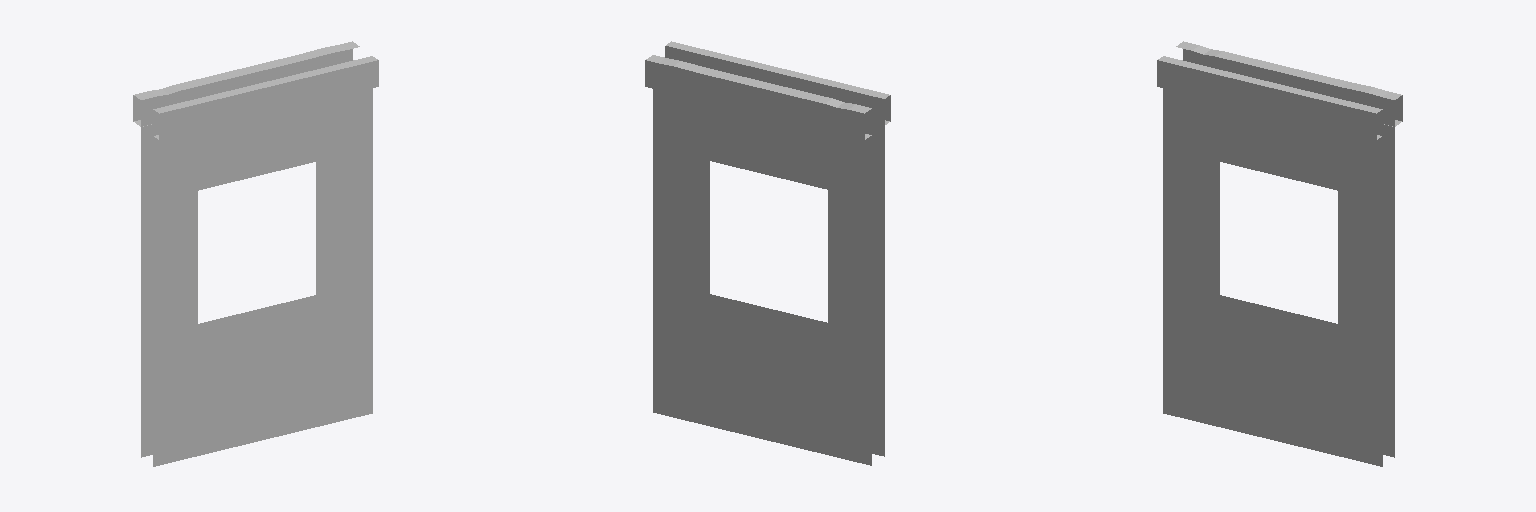
The model's file is Wall_UnevenBrick_Window_Wide_Flat.obj.
3 renders of one model, left to right at view 1: azimuth 30°, elevation 25°; view 2: azimuth 150°, elevation 25°; view 3: azimuth 330°, elevation 25°, orthographic.
Visible parts, largest first — view 1: Wall_UnevenBrick_Window_Wide_Flat; view 2: Wall_UnevenBrick_Window_Wide_Flat; view 3: Wall_UnevenBrick_Window_Wide_Flat.
Part boxes in pixels (bbox=[...]): Wall_UnevenBrick_Window_Wide_Flat: bbox=[133, 41, 378, 466]; Wall_UnevenBrick_Window_Wide_Flat: bbox=[645, 41, 890, 465]; Wall_UnevenBrick_Window_Wide_Flat: bbox=[1157, 41, 1402, 466].
Bounding box in the file's own units: 2 × 3.12 × 0.4065.